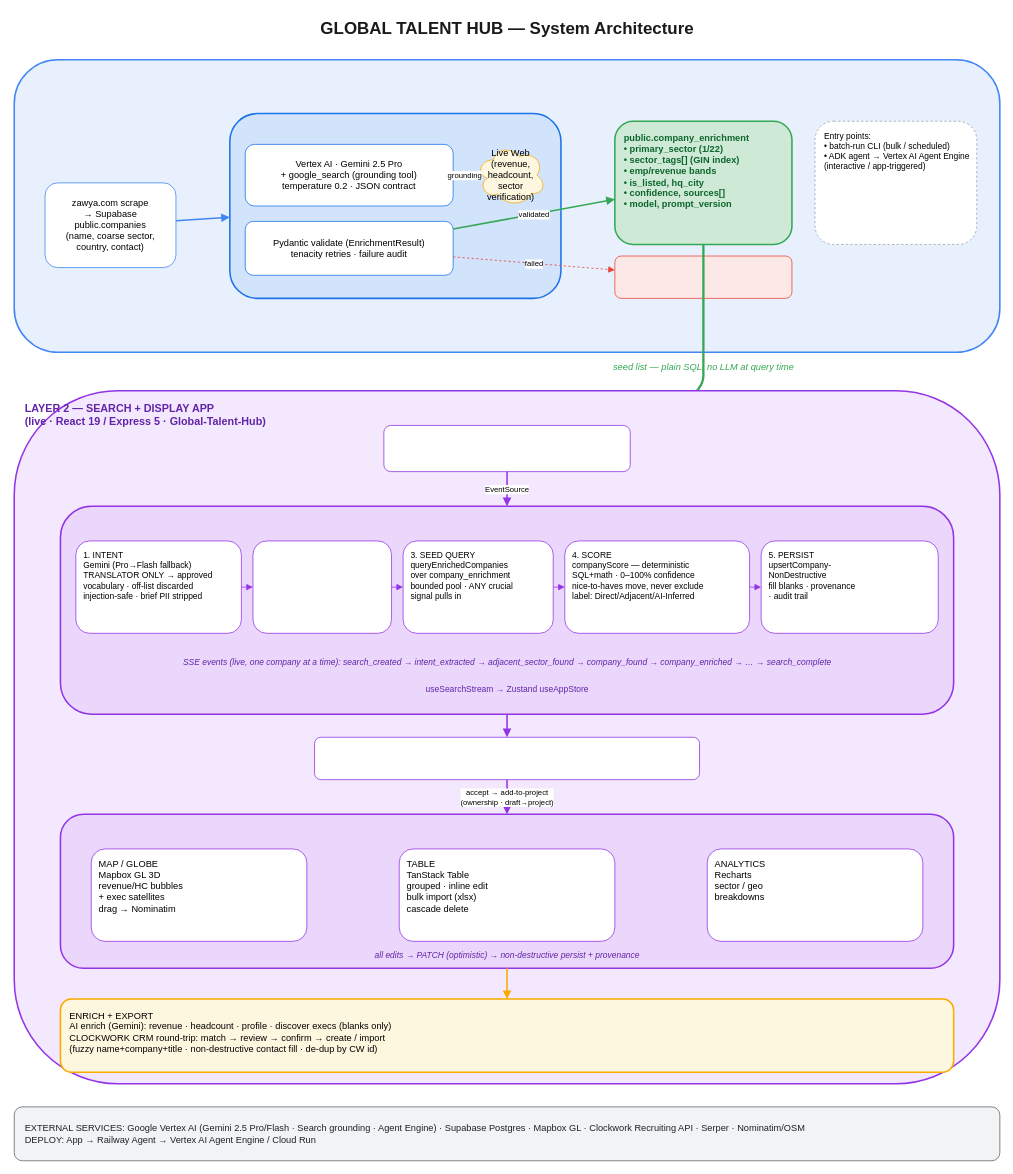
The diagram is 1013 pixels wide and 1174 high, and some of its shapes have lost their labels. The shapes that lost their labels are listed below. From the top down, each one's box as (x1, y1, x2, y2) in pixels, then its label:
(229, 112, 561, 299): GOOGLE ADK AGENT (root_agent)
(13, 59, 1000, 353): LAYER 1 — DATA ENRICHMENT AGENT (offline · Python · talent-mapping-data-agent)
(614, 255, 792, 298): company_enrichment_failures error_class · poison-pill protection on re-runs
(383, 425, 630, 472): RECRUITER "Top FMCG distributors in UAE" — or — upload brief.pdf
(252, 540, 392, 633): 2. NET-WIDEN adjacency map: primary sector → adjacent talent- sharing sectors
(59, 505, 954, 715): EXPRESS ORCHESTRATOR · runSeedListEnhancedStream (SSE)
(314, 737, 700, 780): UNIVERSE VIEW (live results) table · confidence bars · accept / reject
(59, 813, 954, 969): DASHBOARD (3 views — keys 1 / 2 / 3)
